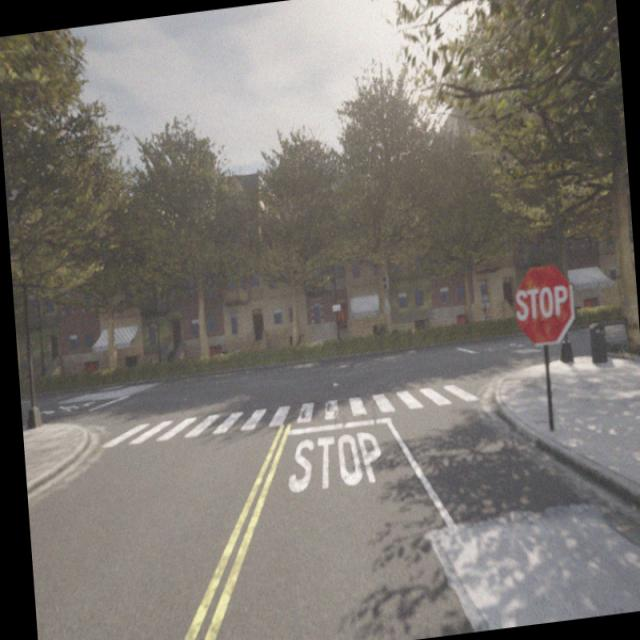stop sign: (511, 260, 576, 348), (514, 283, 569, 321)
